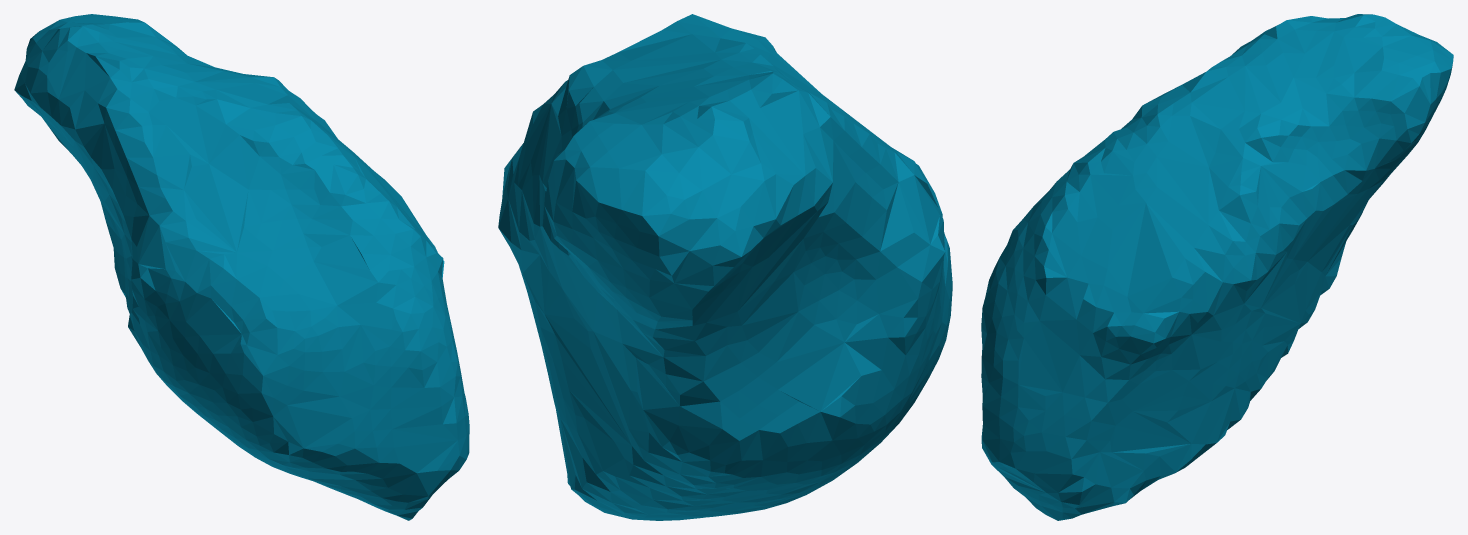
File: Model_263_RH__Anteroventral_thalamic_nucleus_(AV).obj
3 views of the same model, side by side, from view 1: azimuth 30°, elevation 25°; view 2: azimuth 150°, elevation 25°; view 3: azimuth 270°, elevation 25° (orthographic). The views are drawn at different scales.
Bounding box in the file's own units: 1.5 × 2.07 × 2.11.
